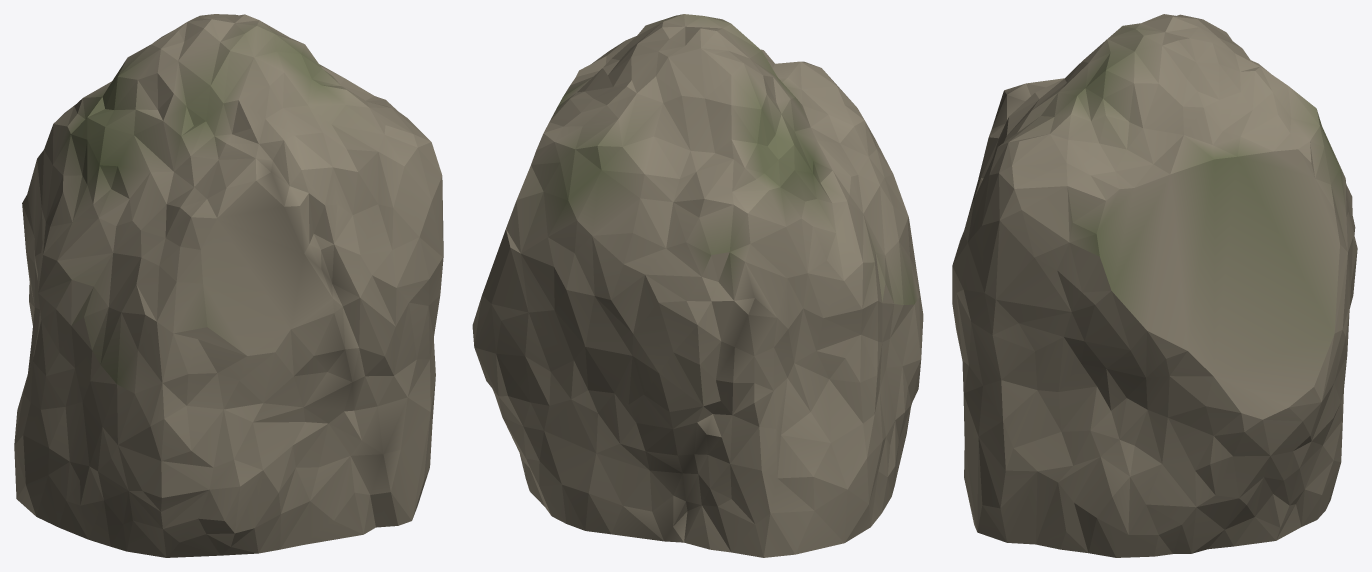
The model's file is stone_D.glb.
3 views of the same model, side by side, from view 1: azimuth 30°, elevation 25°; view 2: azimuth 150°, elevation 25°; view 3: azimuth 270°, elevation 25° (orthographic).
Visible parts, largest first — view 1: stone_D; view 2: stone_D; view 3: stone_D.
Part boxes in pixels (x1,y1,x2,y2): stone_D: (14, 14, 443, 557); stone_D: (472, 14, 923, 557); stone_D: (952, 14, 1357, 557).
Size of the model in its own units: 0.2402 by 0.2906 by 0.2299.
